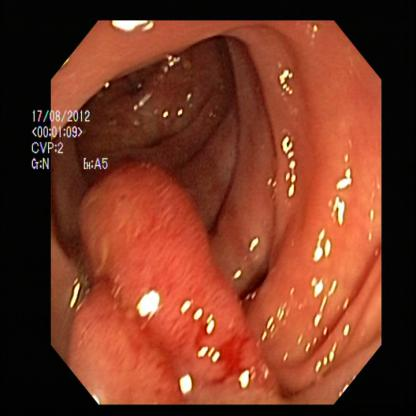Labels: (23, 101, 110, 173)
Polyps: (89, 182, 242, 380), (212, 188, 284, 289)
